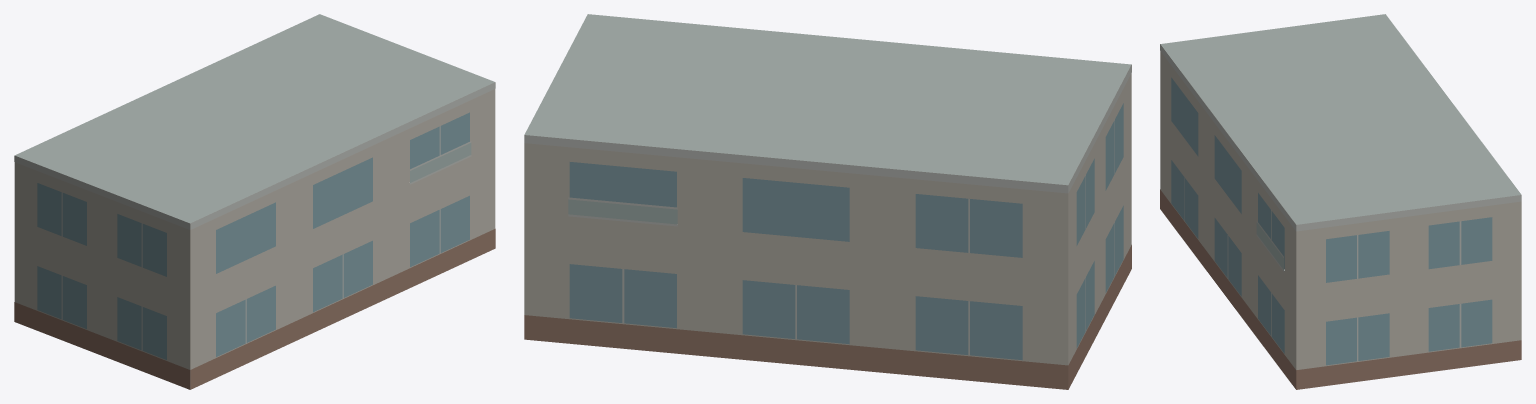
Rendered from survey-upis-32714900.glb.
The picture shows the model from 3 angles, left to right: view 1: azimuth 30°, elevation 25°; view 2: azimuth 150°, elevation 25°; view 3: azimuth 270°, elevation 25°; orthographic projection. The views are drawn at different scales.
Parts seen in each view (by area): view 1: survey-upis-32714900.tmp; view 2: survey-upis-32714900.tmp; view 3: survey-upis-32714900.tmp.
Part boxes in pixels (<box>): survey-upis-32714900.tmp: <box>14,14,495,389</box>; survey-upis-32714900.tmp: <box>524,14,1131,389</box>; survey-upis-32714900.tmp: <box>1160,14,1521,389</box>.
Size of the model in its own units: 16.73 by 6.1 by 12.12.
